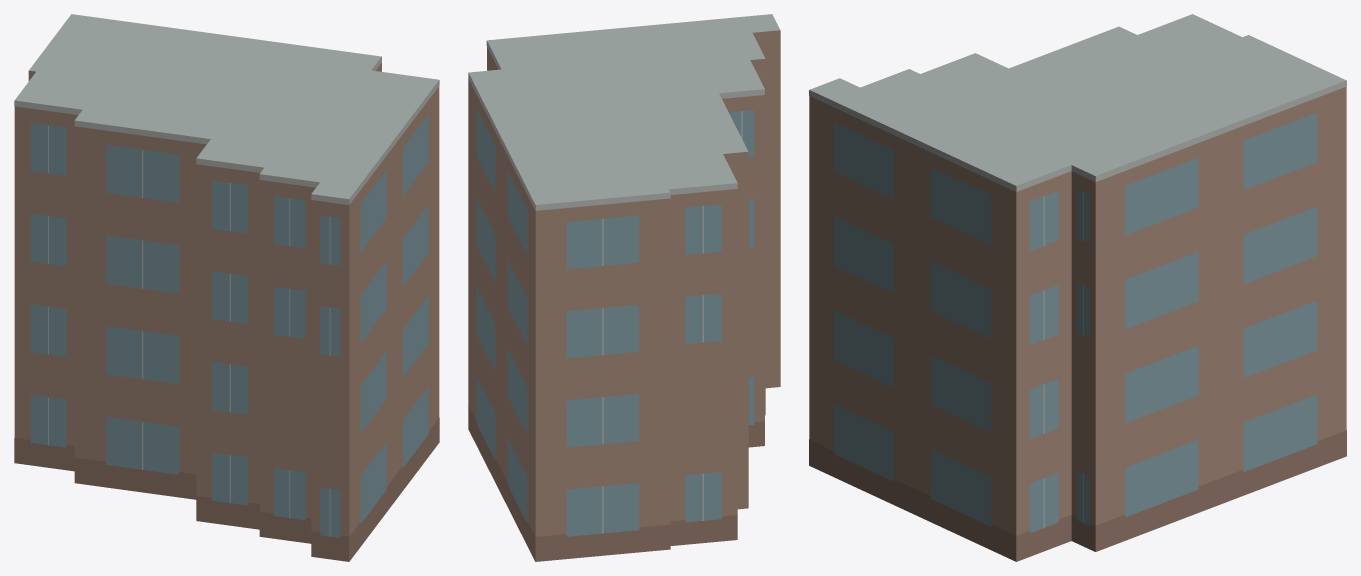
Rendered from survey-upis-32584824.glb.
3 renders of one model, left to right at view 1: azimuth 30°, elevation 25°; view 2: azimuth 150°, elevation 25°; view 3: azimuth 270°, elevation 25°, orthographic. The views are drawn at different scales.
Parts seen in each view (by area): view 1: survey-upis-32584824.tmp; view 2: survey-upis-32584824.tmp; view 3: survey-upis-32584824.tmp.
Boxes of the visible parts, x1,y1,x2,y2 form: survey-upis-32584824.tmp: (14,14,439,561); survey-upis-32584824.tmp: (468,14,780,561); survey-upis-32584824.tmp: (809,14,1346,561).
Size of the model in its own units: 14.82 by 15.1 by 19.58.
